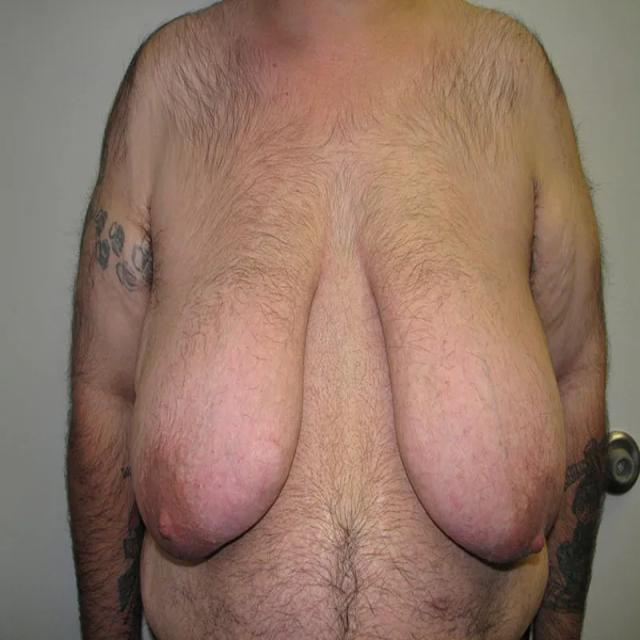Seno ileso: (353, 197, 574, 588), (124, 200, 336, 585)
